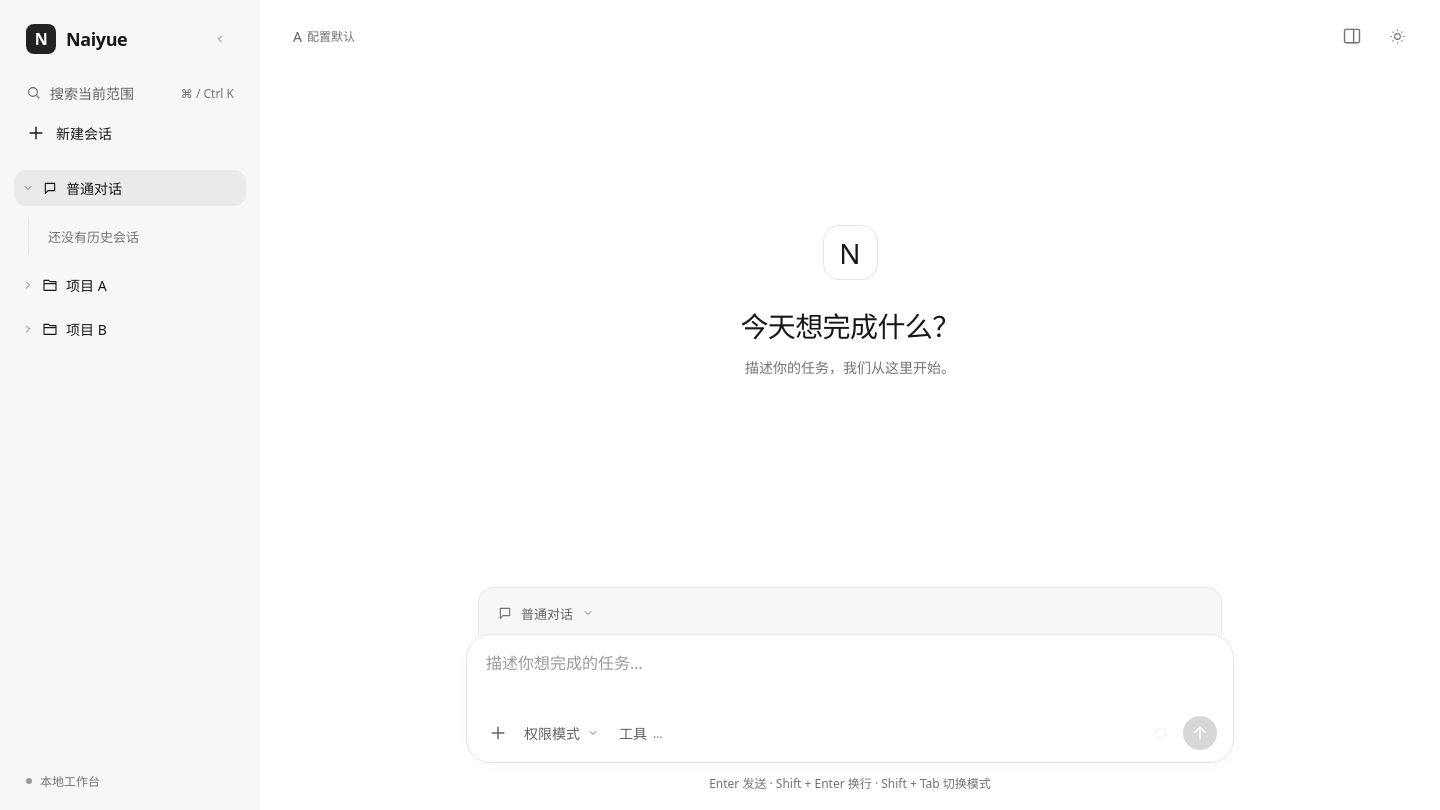
Test: keeps ordinary conversations and projects as peers without sidebar project creation
Expected: the button with aria-label "进入项目 A" is shown, [42,267,246,303]
Click the button with aria-label "项目与位置，当前：普通对话": (546, 613) [489,596,603,630]
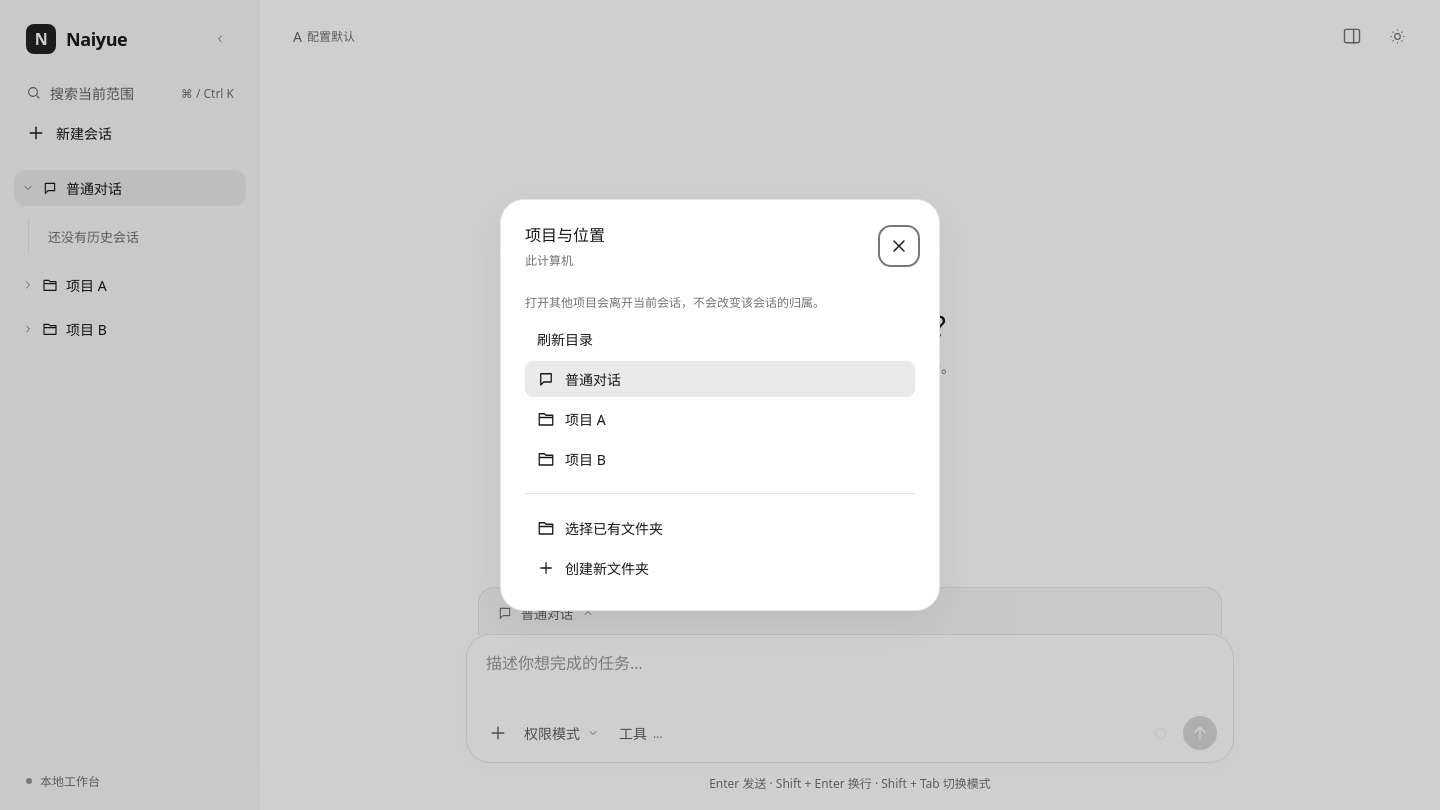
Expected: the dialog "项目与位置" is shown, [500,199,940,611]
Expected: the button "选择已有文件夹" is shown, [525,510,915,546]
Expected: the button "创建新文件夹" is shown, [525,550,915,586]
